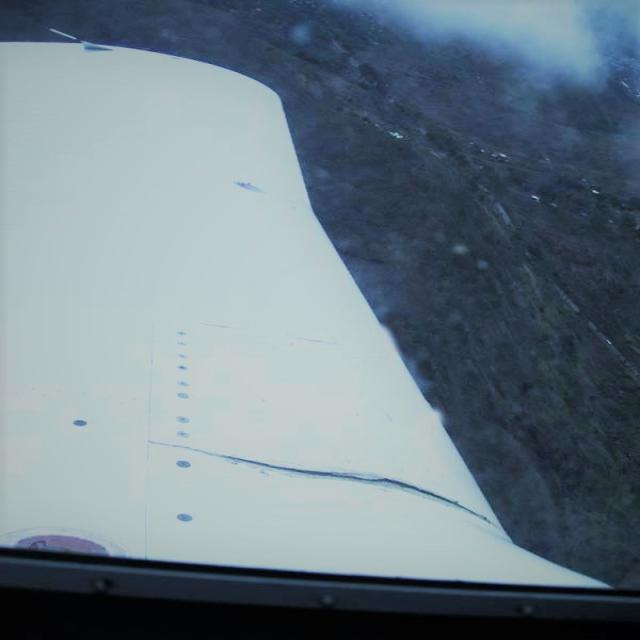Rupture: (147, 429, 508, 536)
